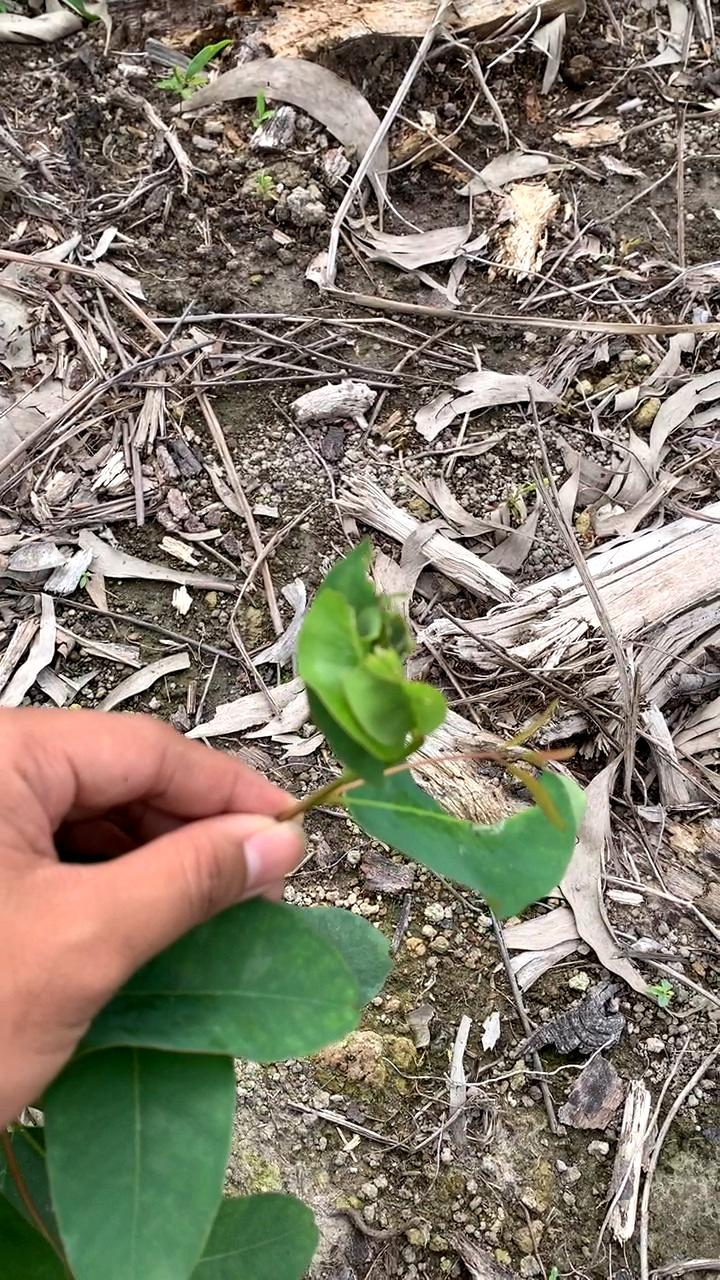Leaf Roller - Leaf: (291, 590, 455, 771)
